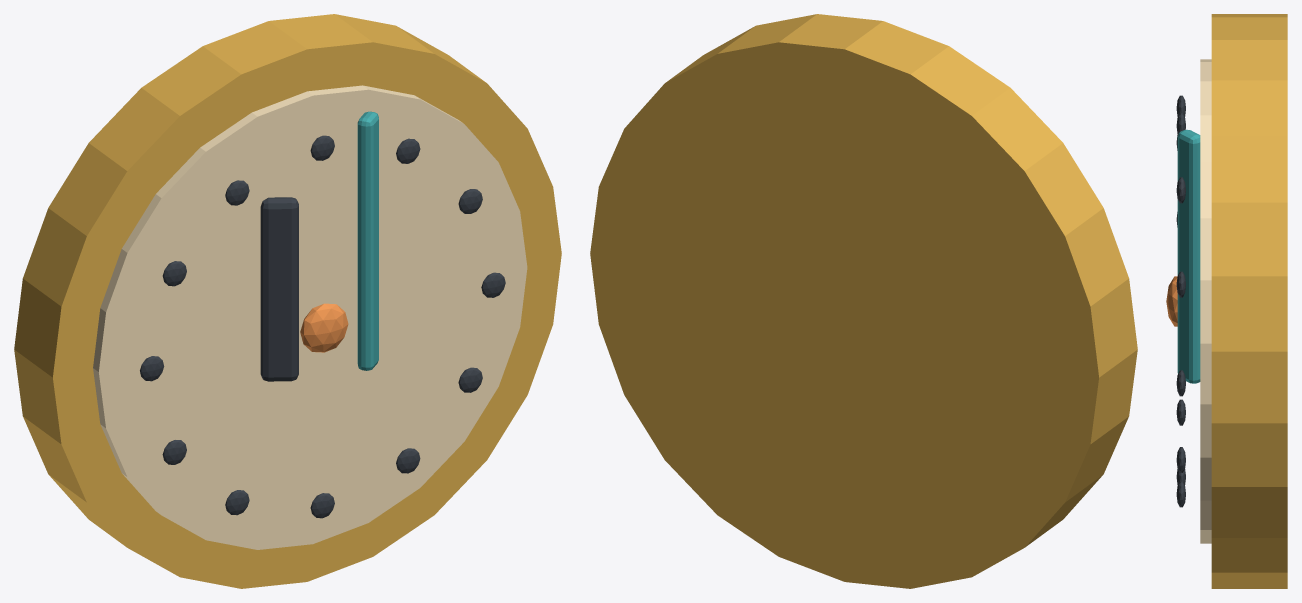
File: RoundWallClock.fbx
The picture shows the model from 3 angles, left to right: view 1: azimuth 30°, elevation 25°; view 2: azimuth 150°, elevation 25°; view 3: azimuth 270°, elevation 25°; orthographic projection.
Visible parts, largest first — view 1: Clock_Face, Clock_Frame, Clock_Hand_Hour, Clock_Hand_Min, Clock_Pin; view 2: Clock_Frame; view 3: Clock_Frame, Clock_Face, Clock_Hand_Min, Clock_Pin, Clock_Marker.001, Clock_Marker.003, Clock_Marker.005, Clock_Marker.007, Clock_Marker.002, Clock_Marker.004.
Part boxes in pixels (left/top/right/bottom): Clock_Face: left=93, top=85, right=527, bottom=549; Clock_Frame: left=14, top=14, right=561, bottom=588; Clock_Hand_Hour: left=260, top=197, right=298, bottom=381; Clock_Hand_Min: left=357, top=111, right=378, bottom=370; Clock_Pin: left=300, top=303, right=348, bottom=352; Clock_Frame: left=590, top=14, right=1137, bottom=588; Clock_Frame: left=1211, top=14, right=1287, bottom=588; Clock_Face: left=1200, top=59, right=1211, bottom=543; Clock_Hand_Min: left=1177, top=129, right=1200, bottom=383; Clock_Pin: left=1166, top=276, right=1177, bottom=326; Clock_Marker.001: left=1176, top=177, right=1185, bottom=203; Clock_Marker.003: left=1176, top=370, right=1185, bottom=396; Clock_Marker.005: left=1176, top=481, right=1185, bottom=507; Clock_Marker.007: left=1176, top=399, right=1185, bottom=425; Clock_Marker.002: left=1176, top=271, right=1185, bottom=297; Clock_Marker.004: left=1176, top=447, right=1185, bottom=472.
Bounding box in the file's own units: 76 × 76 × 15.97.
